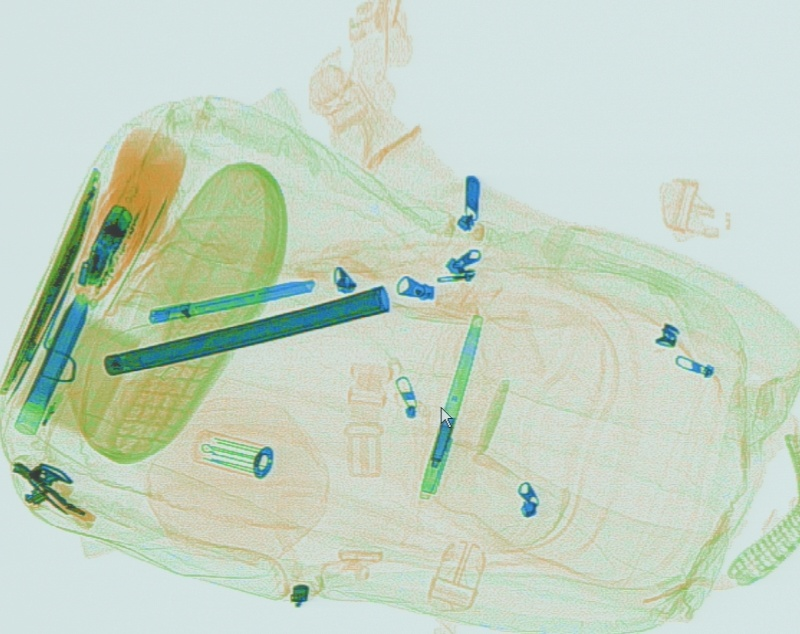knife: (144, 275, 316, 327)
